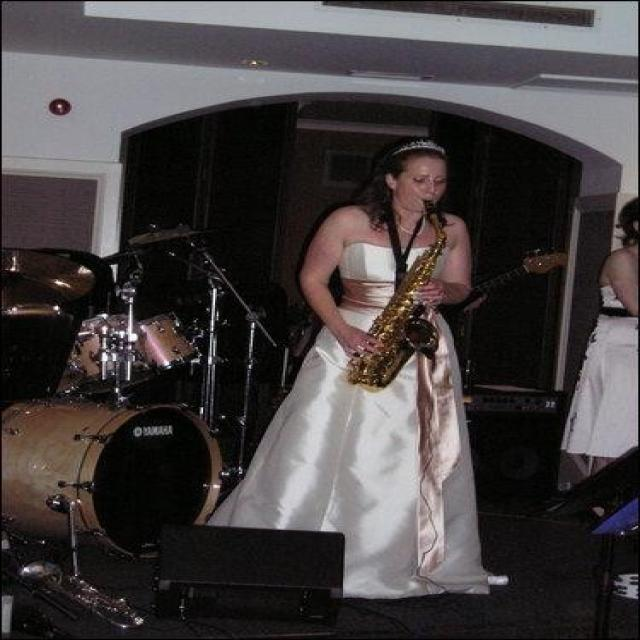drums: (0, 223, 294, 583)
saxophone: (337, 204, 459, 389)
